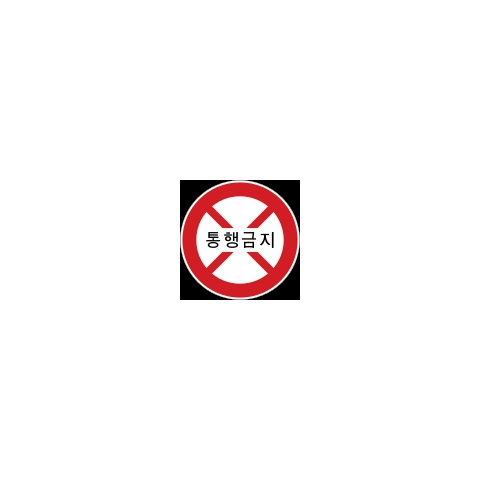South Korea_Road closed: (140, 116, 341, 364)
